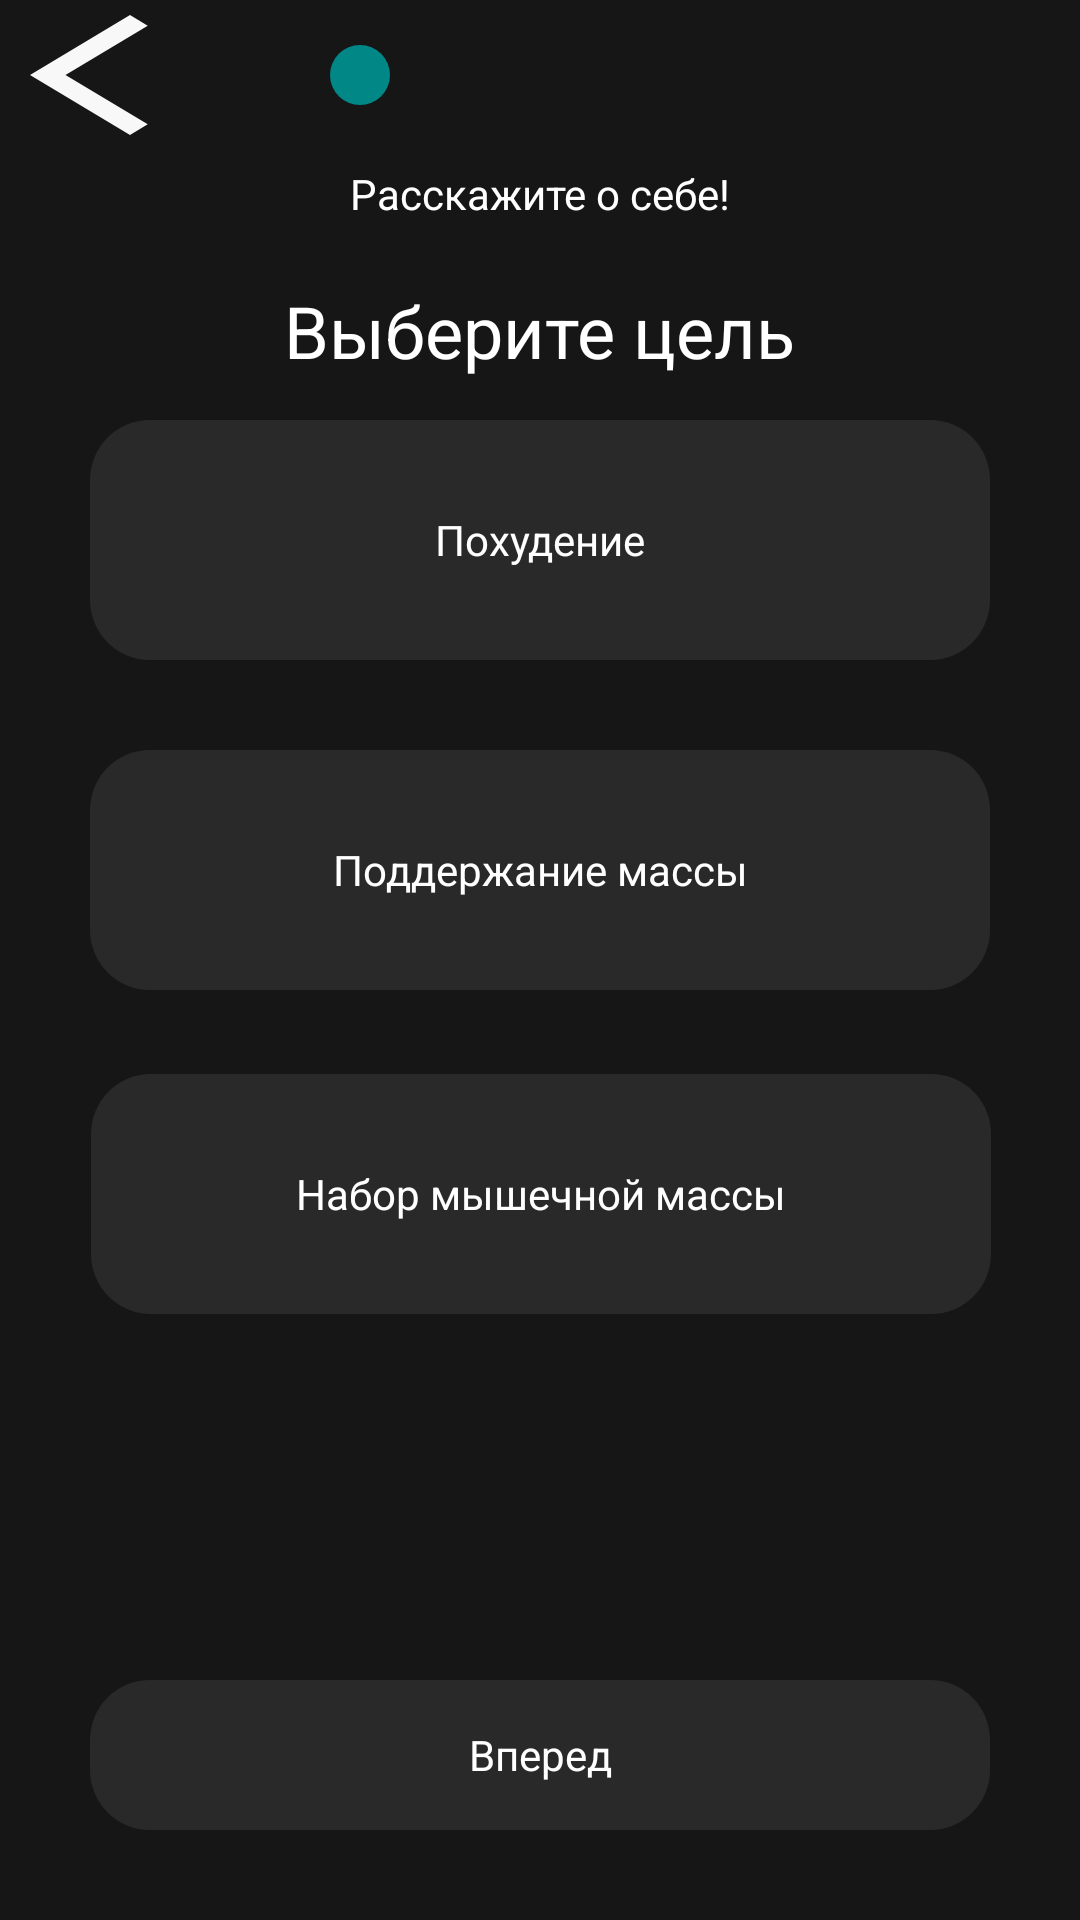

Icon click points for this 1080 × 1920 phone screenshot, format (x,y):
back: (89,75)
